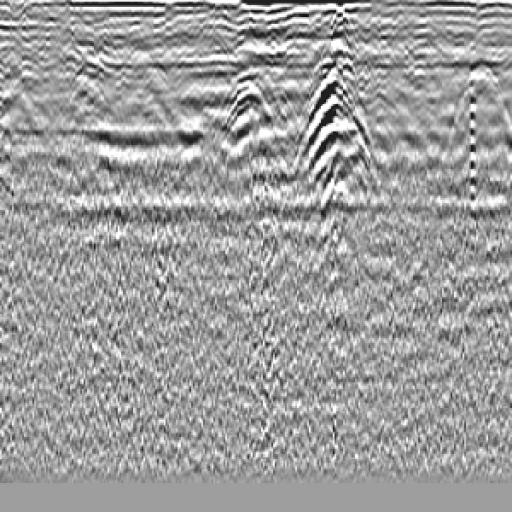metalic: (290, 64, 393, 223)
